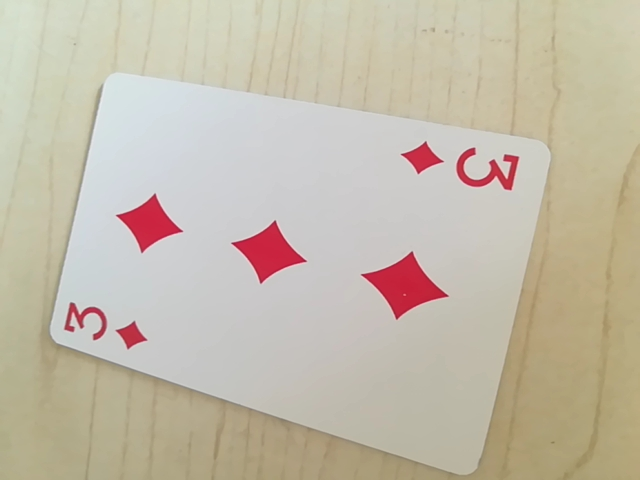fk 3: (396, 137, 522, 194), (59, 293, 156, 353)
